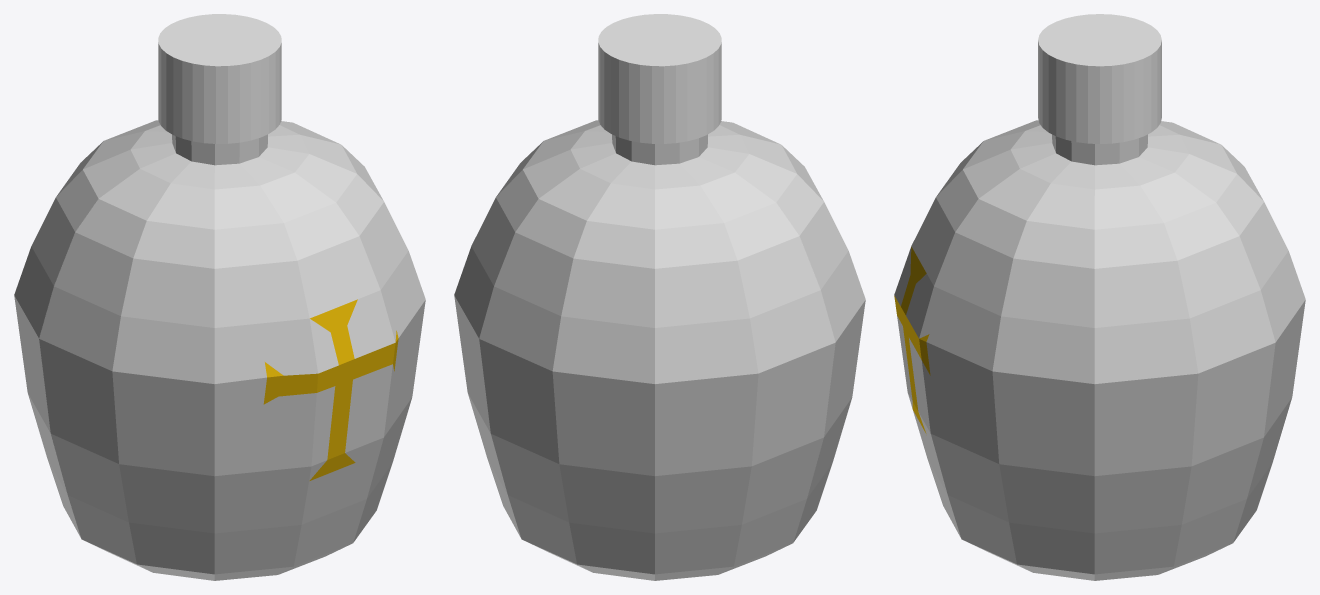
The model's file is holy water.fbx.
3 views of the same model, side by side, from view 1: azimuth 30°, elevation 25°; view 2: azimuth 150°, elevation 25°; view 3: azimuth 270°, elevation 25° (orthographic).
Parts seen in each view (by area): view 1: Plane, Cylinder; view 2: Plane, Cylinder; view 3: Plane, Cylinder.
Part boxes in pixels (box(x1,y1,x2,y2)): Plane: box(14, 120, 425, 580); Cylinder: box(158, 14, 281, 143); Plane: box(454, 120, 865, 580); Cylinder: box(598, 14, 721, 143); Plane: box(894, 120, 1305, 580); Cylinder: box(1038, 14, 1161, 143).
Bounding box in the file's own units: 32.05 × 41.92 × 32.05.
